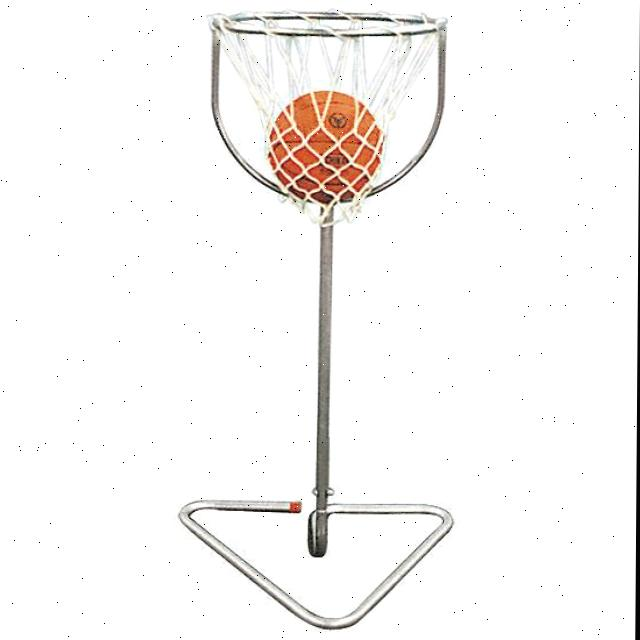basketball: (269, 90, 385, 204)
hoop: (205, 9, 447, 227)
